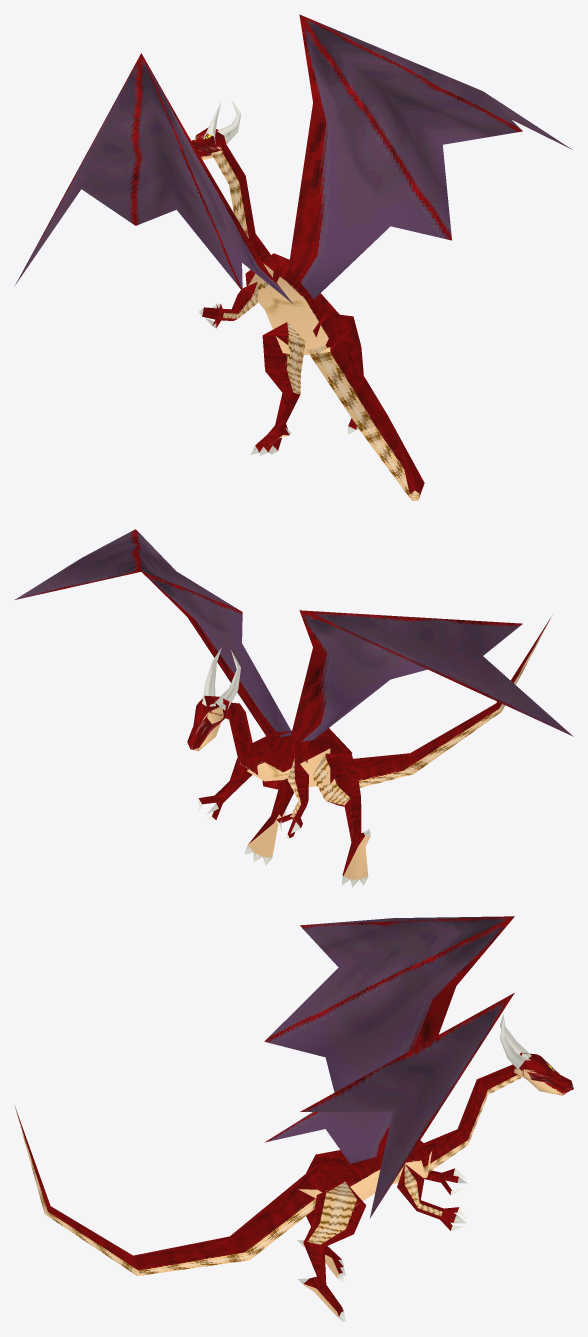
Rendered from ps2_save-icons_mightandmagicdayofthedestroyer.glb.
3 renders of one model, top to bottom at view 1: azimuth 30°, elevation 25°; view 2: azimuth 150°, elevation 25°; view 3: azimuth 270°, elevation 25°, orthographic.
Parts seen in each view (by area): view 1: dragon.ico; view 2: dragon.ico; view 3: dragon.ico.
Boxes of the visible parts, left/top/right/bottom form: dragon.ico: left=15, top=14, right=572, bottom=500; dragon.ico: left=15, top=529, right=573, bottom=887; dragon.ico: left=15, top=916, right=573, bottom=1322.
Size of the model in its own units: 3.9 by 2.32 by 3.42.
1 material, 1 textured.
